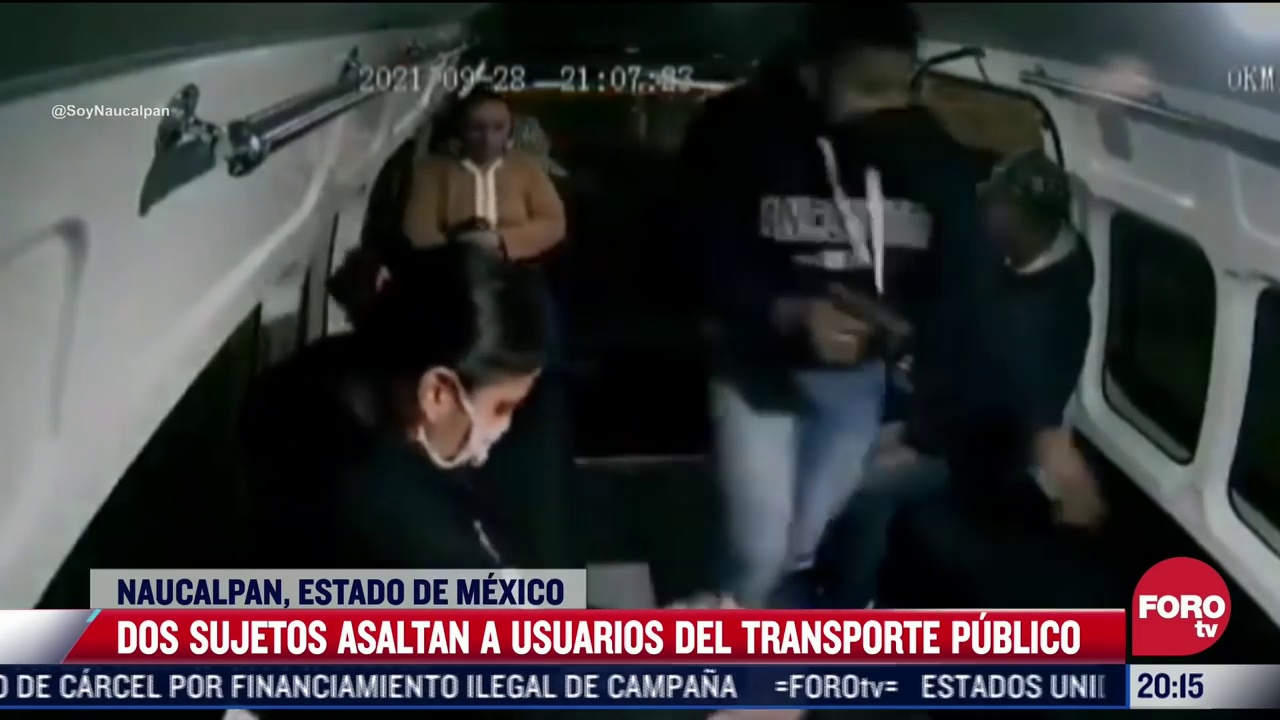pistol: (827, 282, 917, 357)
